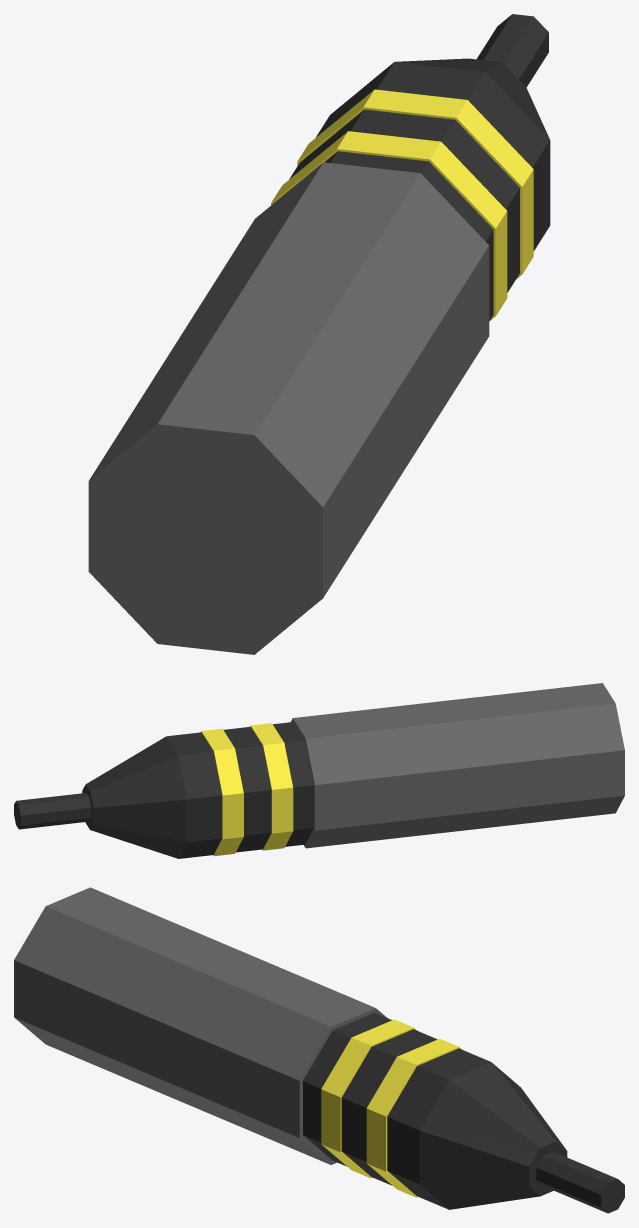
Rendered from ce_ammo2_rcl84heat_heat_a.obj.
3 renders of one model, top to bottom at view 1: azimuth 30°, elevation 25°; view 2: azimuth 150°, elevation 25°; view 3: azimuth 270°, elevation 25°, orthographic. The views are drawn at different scales.
Visible parts, largest first — view 1: ce_ammo2_rcl84heat_heat_a_0, ce_ammo2_rcl84heat_heat_a_5, ce_ammo2_rcl84heat_heat_a_2, ce_ammo2_rcl84heat_heat_a_4, ce_ammo2_rcl84heat_heat_a_3, ce_ammo2_rcl84heat_heat_a_7, ce_ammo2_rcl84heat_heat_a_1, ce_ammo2_rcl84heat_heat_a_6; view 2: ce_ammo2_rcl84heat_heat_a_0, ce_ammo2_rcl84heat_heat_a_6, ce_ammo2_rcl84heat_heat_a_5, ce_ammo2_rcl84heat_heat_a_3, ce_ammo2_rcl84heat_heat_a_2, ce_ammo2_rcl84heat_heat_a_4, ce_ammo2_rcl84heat_heat_a_1, ce_ammo2_rcl84heat_heat_a_7; view 3: ce_ammo2_rcl84heat_heat_a_0, ce_ammo2_rcl84heat_heat_a_6, ce_ammo2_rcl84heat_heat_a_5, ce_ammo2_rcl84heat_heat_a_3, ce_ammo2_rcl84heat_heat_a_4, ce_ammo2_rcl84heat_heat_a_2, ce_ammo2_rcl84heat_heat_a_7, ce_ammo2_rcl84heat_heat_a_1.
Part boxes in pixels (<box>): ce_ammo2_rcl84heat_heat_a_0: <box>88,162,489,654</box>; ce_ammo2_rcl84heat_heat_a_5: <box>316,62,550,251</box>; ce_ammo2_rcl84heat_heat_a_2: <box>271,131,507,321</box>; ce_ammo2_rcl84heat_heat_a_4: <box>297,89,533,279</box>; ce_ammo2_rcl84heat_heat_a_3: <box>289,109,519,292</box>; ce_ammo2_rcl84heat_heat_a_7: <box>477,14,548,87</box>; ce_ammo2_rcl84heat_heat_a_1: <box>325,151,493,320</box>; ce_ammo2_rcl84heat_heat_a_6: <box>395,58,549,139</box>; ce_ammo2_rcl84heat_heat_a_0: <box>291,683,624,848</box>; ce_ammo2_rcl84heat_heat_a_6: <box>82,736,186,858</box>; ce_ammo2_rcl84heat_heat_a_5: <box>166,732,222,858</box>; ce_ammo2_rcl84heat_heat_a_3: <box>223,726,271,852</box>; ce_ammo2_rcl84heat_heat_a_2: <box>250,723,293,850</box>; ce_ammo2_rcl84heat_heat_a_4: <box>201,728,243,856</box>; ce_ammo2_rcl84heat_heat_a_1: <box>273,722,313,846</box>; ce_ammo2_rcl84heat_heat_a_7: <box>14,793,91,829</box>; ce_ammo2_rcl84heat_heat_a_0: <box>14,887,386,1164</box>; ce_ammo2_rcl84heat_heat_a_6: <box>419,1062,567,1209</box>; ce_ammo2_rcl84heat_heat_a_5: <box>387,1048,490,1209</box>; ce_ammo2_rcl84heat_heat_a_3: <box>341,1029,437,1185</box>; ce_ammo2_rcl84heat_heat_a_4: <box>366,1038,462,1197</box>; ce_ammo2_rcl84heat_heat_a_2: <box>321,1019,417,1178</box>; ce_ammo2_rcl84heat_heat_a_7: <box>536,1151,624,1213</box>; ce_ammo2_rcl84heat_heat_a_1: <box>303,1012,391,1166</box>.
Bounding box in the file's own units: 0.6657 × 0.1662 × 0.6657.
